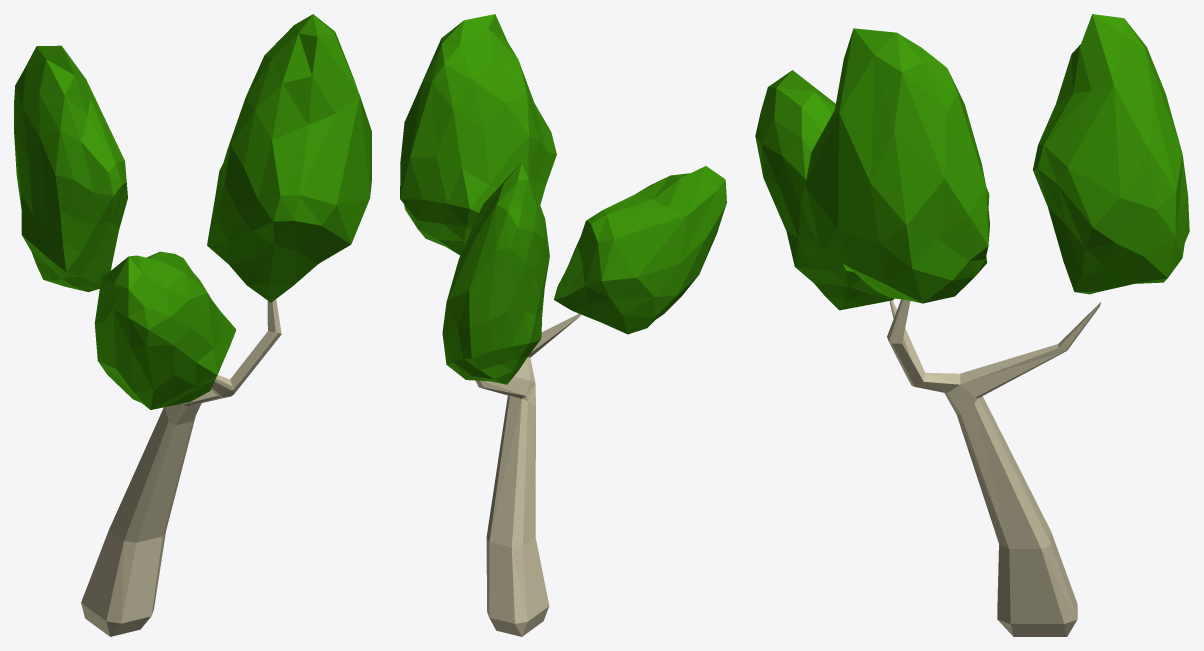
Rendered from stm_env_Tree02.fbx.
The picture shows the model from 3 angles, left to right: view 1: azimuth 30°, elevation 25°; view 2: azimuth 150°, elevation 25°; view 3: azimuth 270°, elevation 25°; orthographic projection. The views are drawn at different scales.
Visible parts, largest first — view 1: Leaves02_1, Leaves02, Leaves02_2, Tree01; view 2: Leaves02_1, Leaves02_2, Leaves02, Tree01; view 3: Leaves02_1, Leaves02, Tree01, Leaves02_2.
Part boxes in pixels (bbox=[...]): Leaves02_1: bbox=[207, 14, 371, 302]; Leaves02: bbox=[14, 45, 127, 292]; Leaves02_2: bbox=[94, 251, 236, 409]; Tree01: bbox=[81, 299, 281, 636]; Leaves02_1: bbox=[400, 14, 556, 255]; Leaves02_2: bbox=[554, 166, 726, 334]; Leaves02: bbox=[442, 162, 549, 384]; Tree01: bbox=[476, 314, 580, 636]; Leaves02_1: bbox=[805, 28, 989, 303]; Leaves02: bbox=[1033, 14, 1189, 294]; Tree01: bbox=[887, 299, 1100, 636]; Leaves02_2: bbox=[755, 70, 894, 310].
Size of the model in its own units: 523 by 999 by 591.
